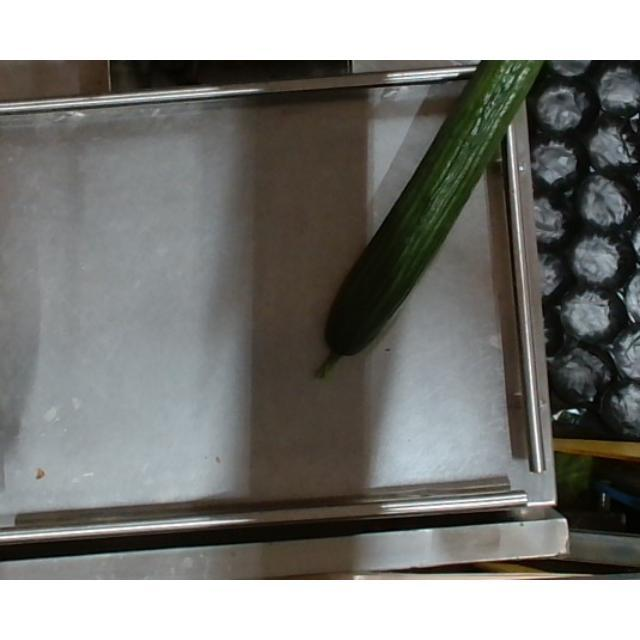cucumber: (313, 60, 545, 378)
